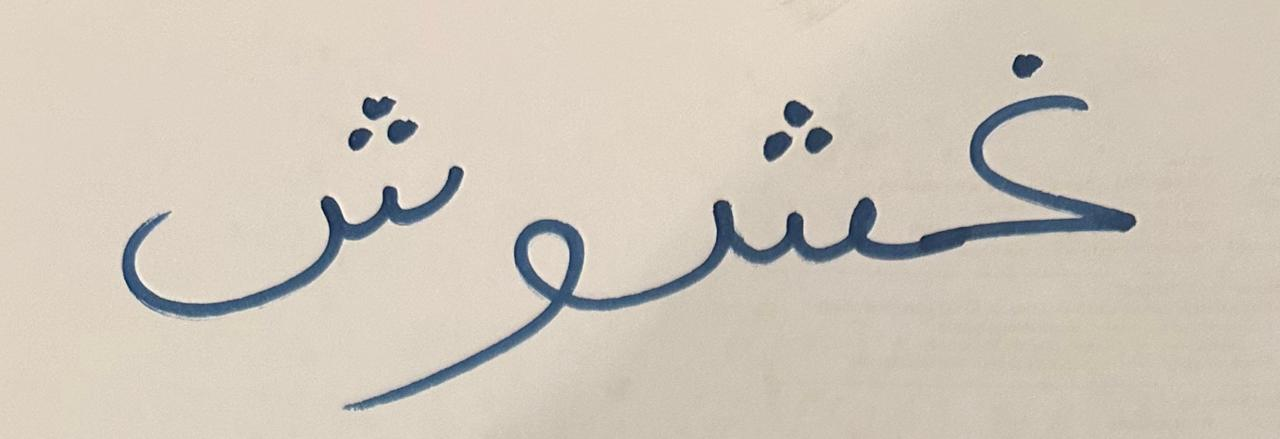ghain: (908, 19, 1168, 318)
tah: (46, 12, 474, 331), (644, 19, 901, 338)
yeh: (479, 127, 638, 401)
